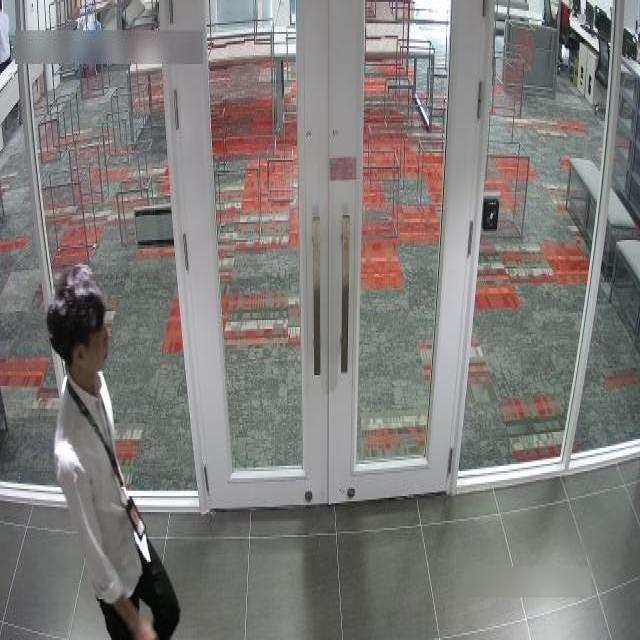bare_hand: (119, 592, 166, 640)
